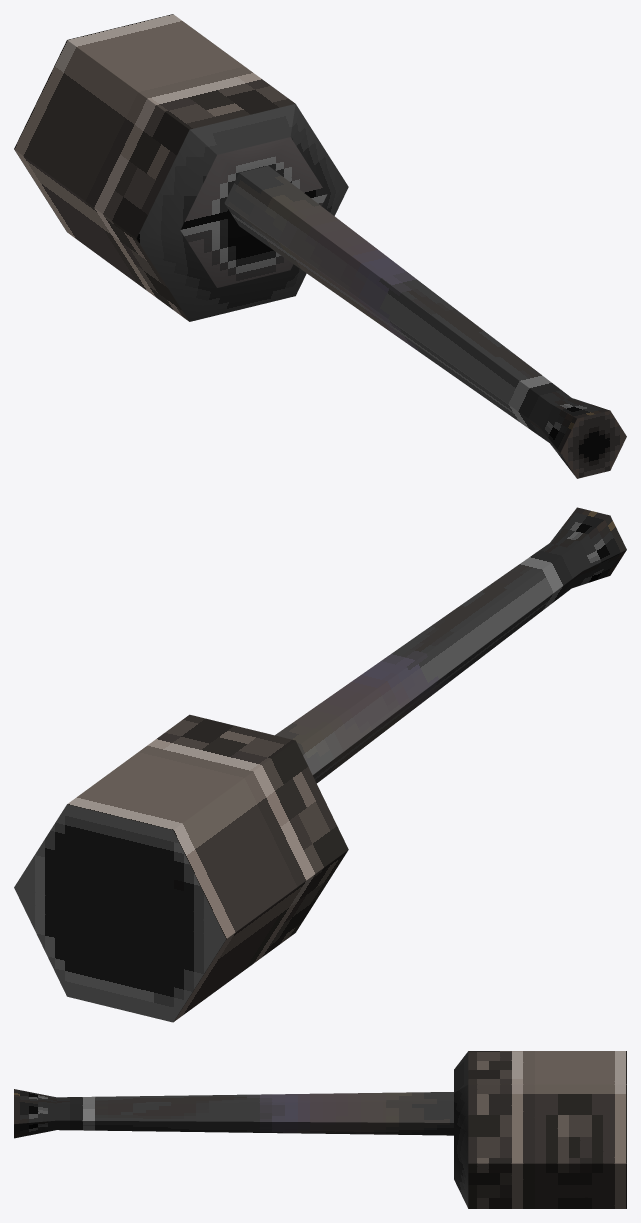
Rendered from weapon_MG.fbx.
3 renders of one model, top to bottom at view 1: azimuth 30°, elevation 25°; view 2: azimuth 150°, elevation 25°; view 3: azimuth 270°, elevation 25°, orthographic. The views are drawn at different scales.
Parts seen in each view (by area): view 1: weapons_Machinegun; view 2: weapons_Machinegun; view 3: weapons_Machinegun.
Part boxes in pixels (x1=…): weapons_Machinegun: x1=14, y1=14, x2=626, y2=478; weapons_Machinegun: x1=14, y1=507, x2=626, y2=1022; weapons_Machinegun: x1=14, y1=1051, x2=626, y2=1208.
Bounding box in the file's own units: 0.7896 × 0.6838 × 3.05.
